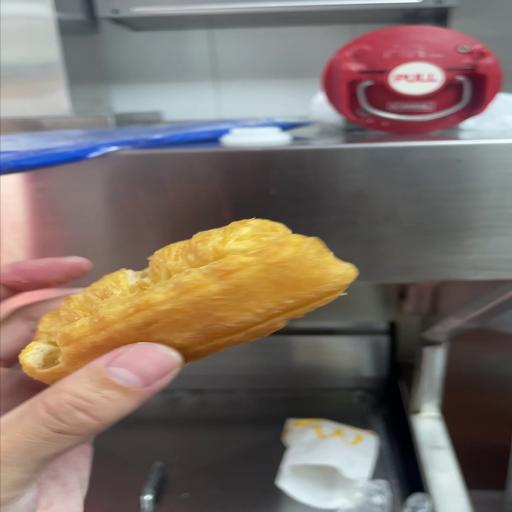brand_golden_defect: (20, 219, 357, 384)
